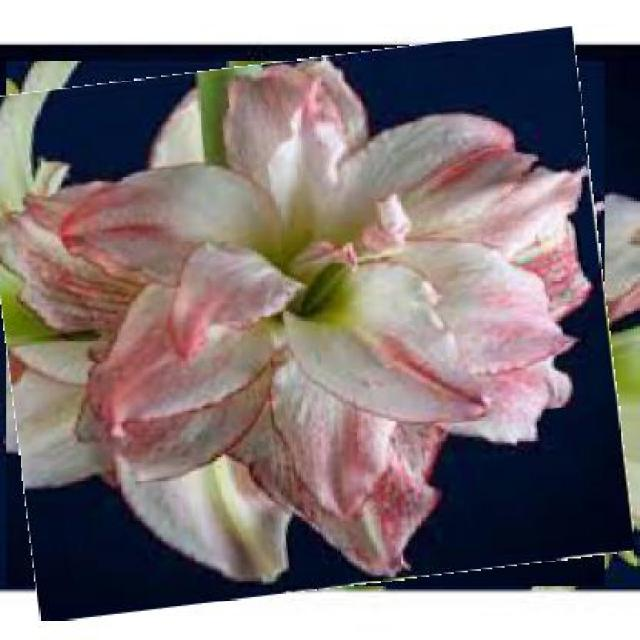Flower: (0, 43, 622, 605)
